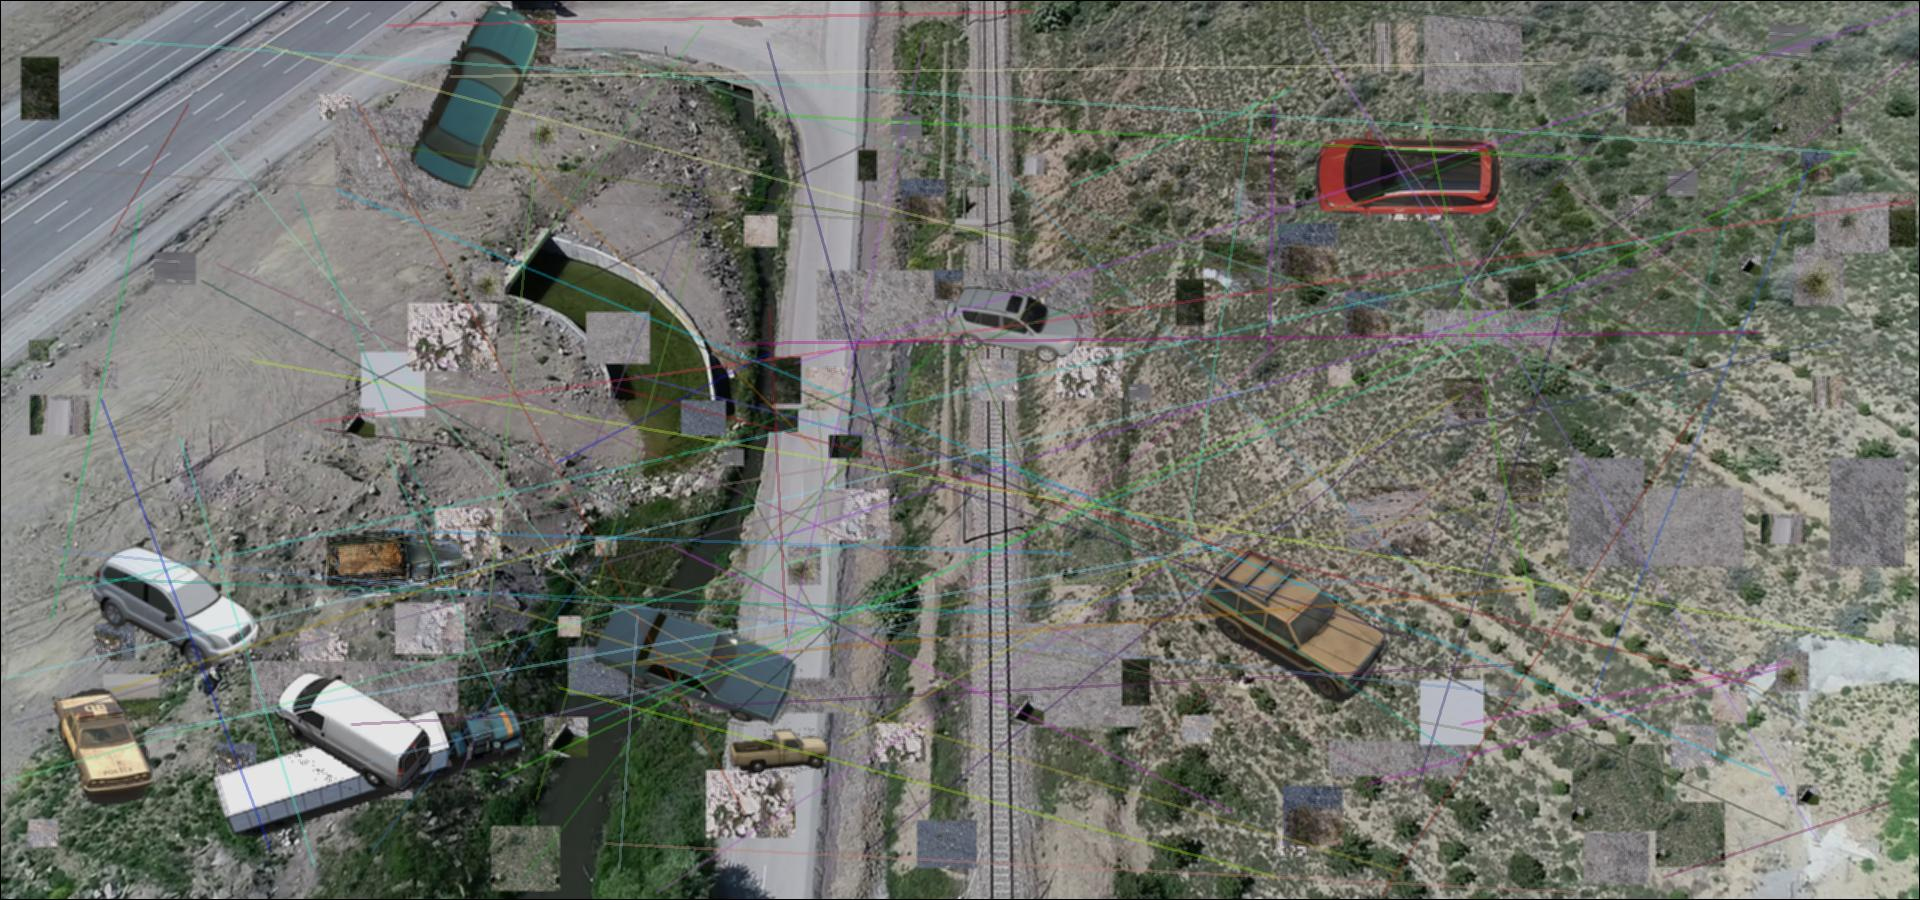arac: (206, 696, 527, 836), (1199, 539, 1393, 704), (587, 602, 802, 726), (405, 0, 540, 193), (89, 541, 261, 672), (276, 667, 433, 792), (1313, 126, 1509, 224), (47, 687, 158, 804), (940, 287, 1080, 364), (323, 524, 467, 598), (730, 729, 830, 778)
